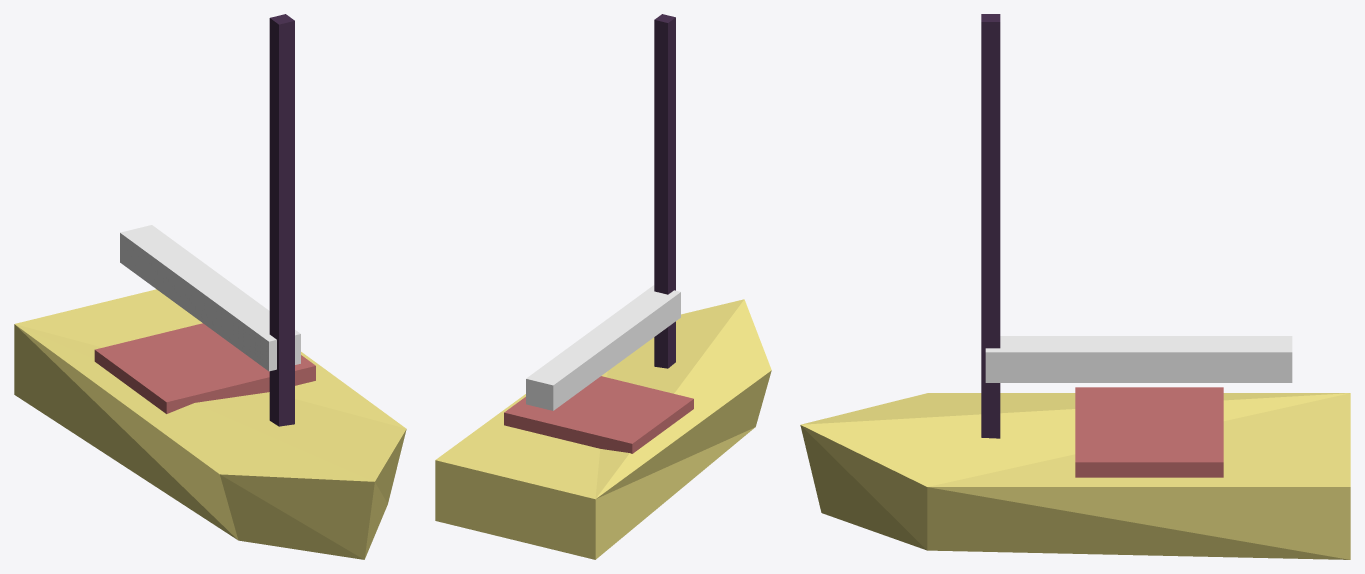
Rendered from dinghy_y.glb.
3 renders of one model, left to right at view 1: azimuth 30°, elevation 25°; view 2: azimuth 150°, elevation 25°; view 3: azimuth 270°, elevation 25°, orthographic. The views are drawn at different scales.
Parts seen in each view (by area): view 1: Mesh; view 2: Mesh; view 3: Mesh.
Boxes of the visible parts, x1,y1,x2,y2 form: Mesh: (14, 14, 406, 559); Mesh: (435, 14, 771, 559); Mesh: (800, 14, 1350, 559).
Size of the model in its own units: 1.05 by 2.58 by 2.6.
